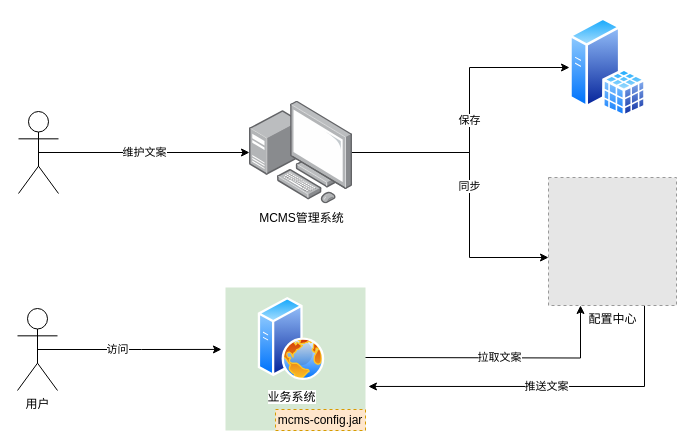
Image size: 694x448. Some labels were removed from this diagram. Grey dashed boxes stand in for pictures. The centre of each missing label's shape, as x and y in pixels:
数据库: the point at 607,67
管理员: the point at 38,152
